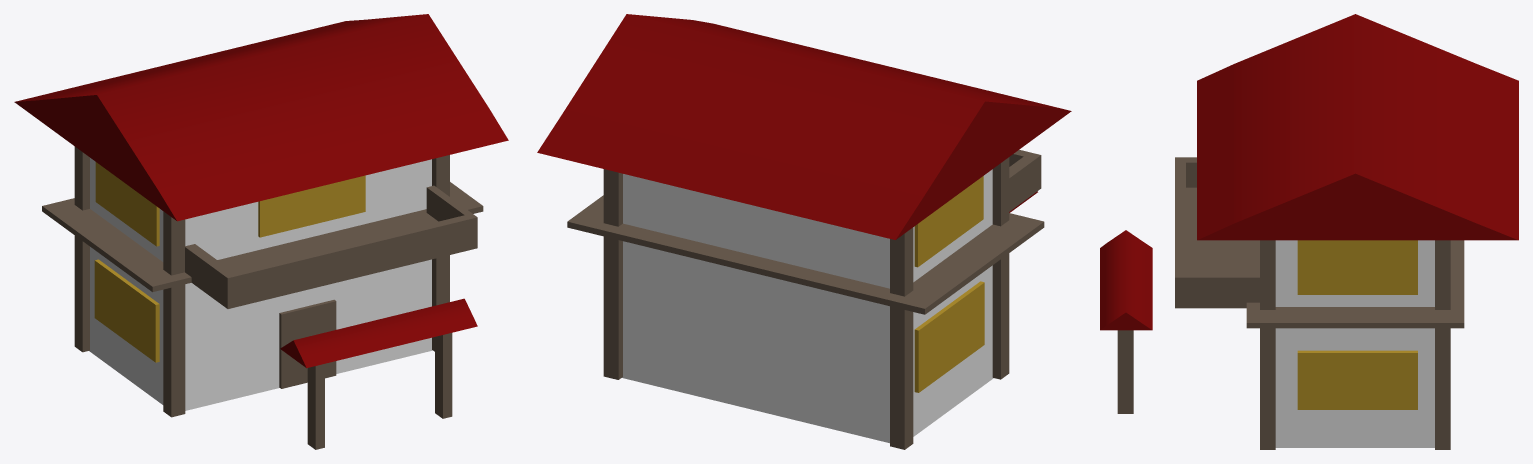
Rendered from Tavern.fbx.
3 views of the same model, side by side, from view 1: azimuth 30°, elevation 25°; view 2: azimuth 150°, elevation 25°; view 3: azimuth 270°, elevation 25° (orthographic). The views are drawn at different scales.
Visible parts, largest first — view 1: pCube4, pCube1, pCube3, pCube2, pCube11, pCube6, pCube16, pCube18, pCube12, pCube7, pCube17, pCube5 (+2 smaller); view 2: pCube4, pCube1, pCube2, pCube3, pCube7, pCube16, pCube8, pCube6, pCube17; view 3: pCube4, pCube3, pCube1, pCube13, pCube15, pCube11, pCube2, pCube5, pCube8, pCube10.
Part boxes in pixels (x1,y1,x2,y2): pCube4: [14, 14, 508, 221]; pCube1: [89, 247, 432, 410]; pCube3: [42, 182, 483, 308]; pCube2: [90, 158, 431, 261]; pCube11: [280, 298, 477, 368]; pCube6: [163, 211, 185, 417]; pCube16: [94, 259, 159, 362]; pCube18: [258, 175, 365, 237]; pCube12: [279, 299, 336, 388]; pCube7: [74, 146, 89, 352]; pCube17: [95, 162, 159, 246]; pCube5: [432, 155, 449, 351]; pCube4: [537, 14, 1071, 239]; pCube1: [622, 241, 993, 443]; pCube2: [623, 169, 992, 288]; pCube3: [567, 149, 1044, 314]; pCube7: [890, 227, 913, 449]; pCube16: [914, 281, 984, 392]; pCube8: [603, 169, 622, 379]; pCube6: [992, 157, 1009, 379]; pCube17: [914, 176, 983, 267]; pCube4: [1197, 14, 1518, 240]; pCube3: [1175, 157, 1464, 328]; pCube1: [1275, 328, 1434, 447]; pCube13: [1297, 350, 1417, 409]; pCube15: [1297, 240, 1417, 294]; pCube11: [1100, 230, 1152, 330]; pCube2: [1275, 240, 1434, 306]; pCube5: [1260, 240, 1275, 449]; pCube8: [1435, 240, 1450, 449]; pCube10: [1117, 330, 1133, 413].
Bounding box in the file's own units: 12.47 × 10.59 × 13.83.
